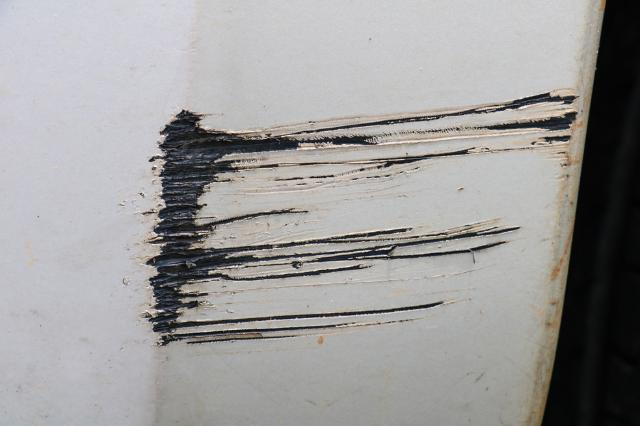Bumper: (98, 62, 602, 414)
